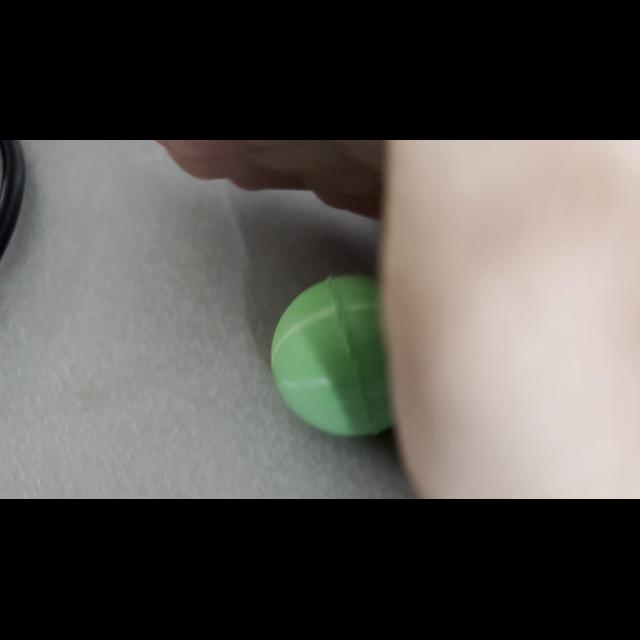objects: (269, 266, 393, 448)
